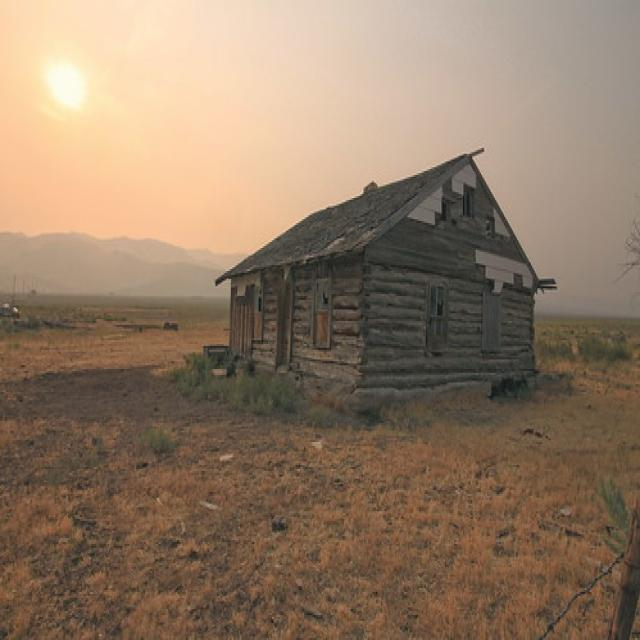building: (217, 144, 540, 410)
